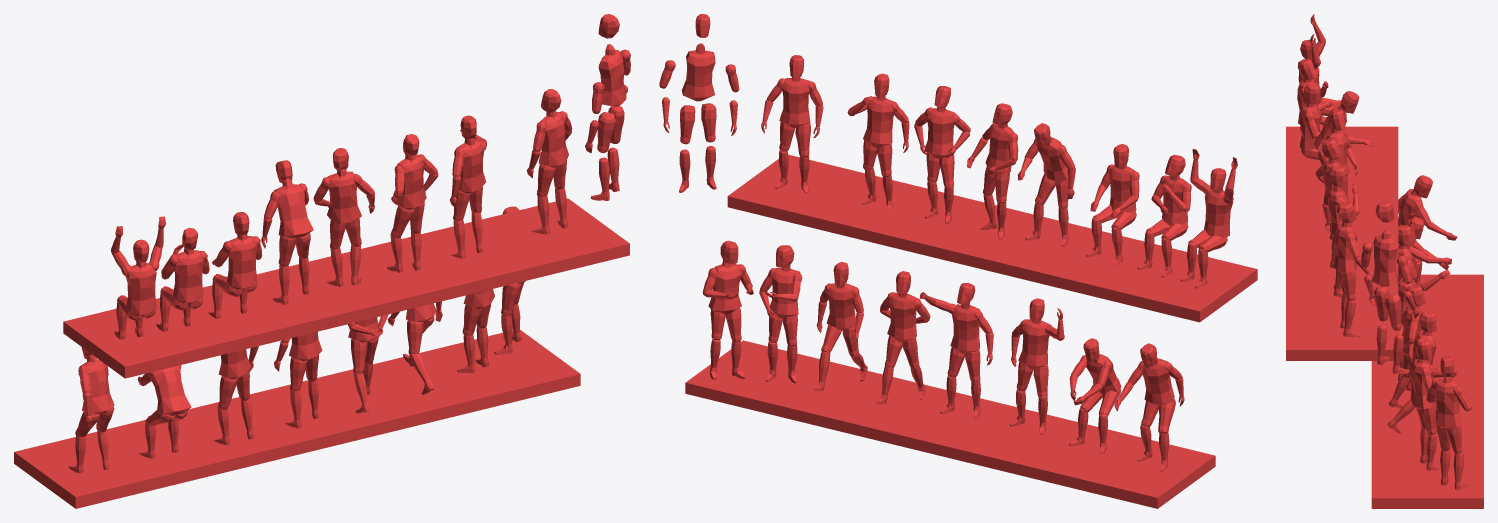
The model's file is Low Poly Guys.glb.
3 views of the same model, side by side, from view 1: azimuth 30°, elevation 25°; view 2: azimuth 150°, elevation 25°; view 3: azimuth 270°, elevation 25° (orthographic). The views are drawn at different scales.
Parts seen in each view (by area): view 1: group844032889, group1398641829, group2132482568, group552157807, group1052986694, group2116016854, group903065000, group742675113, group1200429395, group557469999, group408877720, group1599241540 (+7 smaller); view 2: group844032889, group1398641829, group1052986694, group43880032, group1931400837, group2116016854, group903065000, group408877720, group1840098228, group1348612178, group623792454, group869186636 (+7 smaller); view 3: group1398641829, group844032889, group1931400837, group1052986694, group1348612178, group408877720, group869186636, group903065000, group557469999, group6665222, group623792454, group2132482568 (+13 smaller).
Boxes of the visible parts, bbox=[...] form: group844032889: bbox=[14, 330, 580, 508]; group1398641829: bbox=[63, 198, 629, 378]; group2132482568: bbox=[313, 148, 374, 286]; group552157807: bbox=[261, 160, 313, 304]; group1052986694: bbox=[526, 89, 572, 234]; group2116016854: bbox=[387, 134, 438, 272]; group903065000: bbox=[450, 115, 486, 258]; group742675113: bbox=[111, 216, 166, 339]; group1200429395: bbox=[156, 227, 209, 331]; group557469999: bbox=[208, 212, 262, 318]; group408877720: bbox=[68, 347, 114, 473]; group1599241540: bbox=[137, 365, 191, 458]; group844032889: bbox=[685, 340, 1215, 508]; group1398641829: bbox=[727, 154, 1257, 322]; group1052986694: bbox=[761, 55, 823, 193]; group43880032: bbox=[919, 283, 993, 417]; group1931400837: bbox=[702, 240, 753, 379]; group2116016854: bbox=[914, 86, 970, 224]; group903065000: bbox=[847, 73, 909, 209]; group408877720: bbox=[1114, 343, 1184, 471]; group1840098228: bbox=[1010, 298, 1064, 434]; group1348612178: bbox=[759, 245, 802, 383]; group623792454: bbox=[814, 262, 867, 391]; group869186636: bbox=[876, 271, 930, 404]; group1398641829: bbox=[1286, 126, 1398, 360]; group844032889: bbox=[1371, 274, 1483, 508]; group1931400837: bbox=[1426, 356, 1471, 490]; group1052986694: bbox=[1333, 202, 1373, 337]; group1348612178: bbox=[1411, 338, 1457, 470]; group408877720: bbox=[1398, 175, 1457, 284]; group869186636: bbox=[1388, 285, 1425, 408]; group903065000: bbox=[1322, 165, 1359, 297]; group557469999: bbox=[1300, 83, 1349, 179]; group6665222: bbox=[1373, 229, 1397, 287]; group623792454: bbox=[1387, 311, 1461, 433]; group2132482568: bbox=[1323, 109, 1358, 240].
Bounding box in the file's own units: 8.15 × 4.83 × 2.68.
